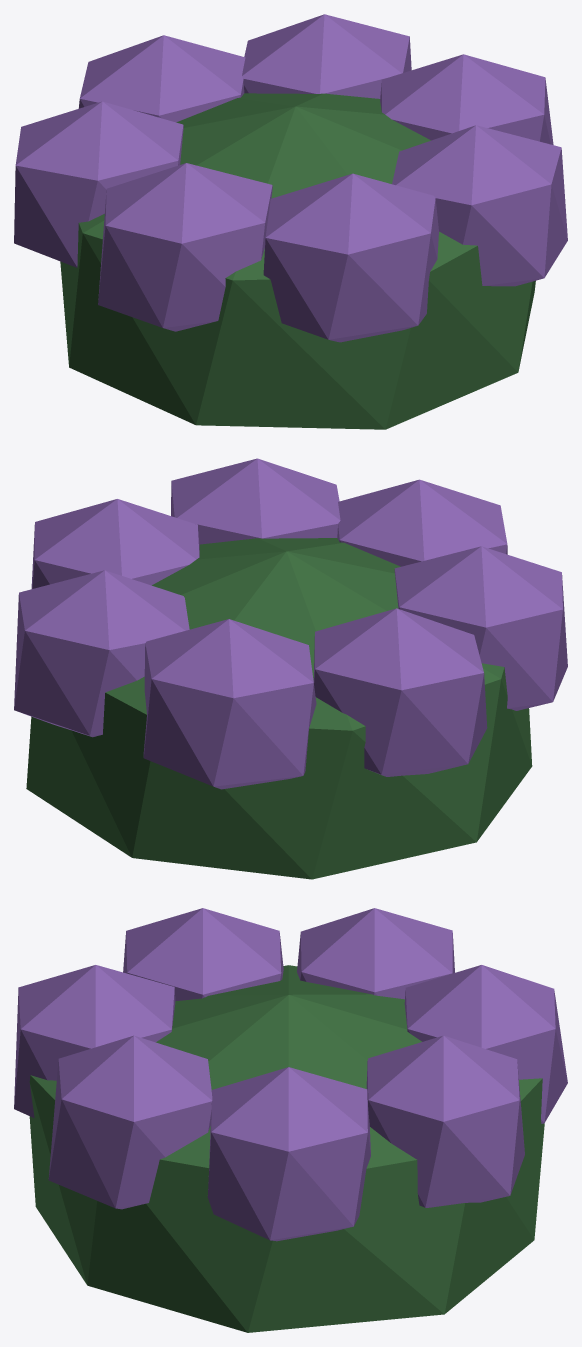
Rendered from flower_purple.glb.
3 renders of one model, top to bottom at view 1: azimuth 30°, elevation 25°; view 2: azimuth 150°, elevation 25°; view 3: azimuth 270°, elevation 25°, orthographic. The views are drawn at different scales.
Parts seen in each view (by area): view 1: flower_purple; view 2: flower_purple; view 3: flower_purple.
Part boxes in pixels (box(x1,y1,x2,y2)): flower_purple: box(14, 14, 567, 429); flower_purple: box(14, 458, 567, 879); flower_purple: box(14, 908, 567, 1332).
Size of the model in its own units: 1.37 by 0.83 by 1.32.
